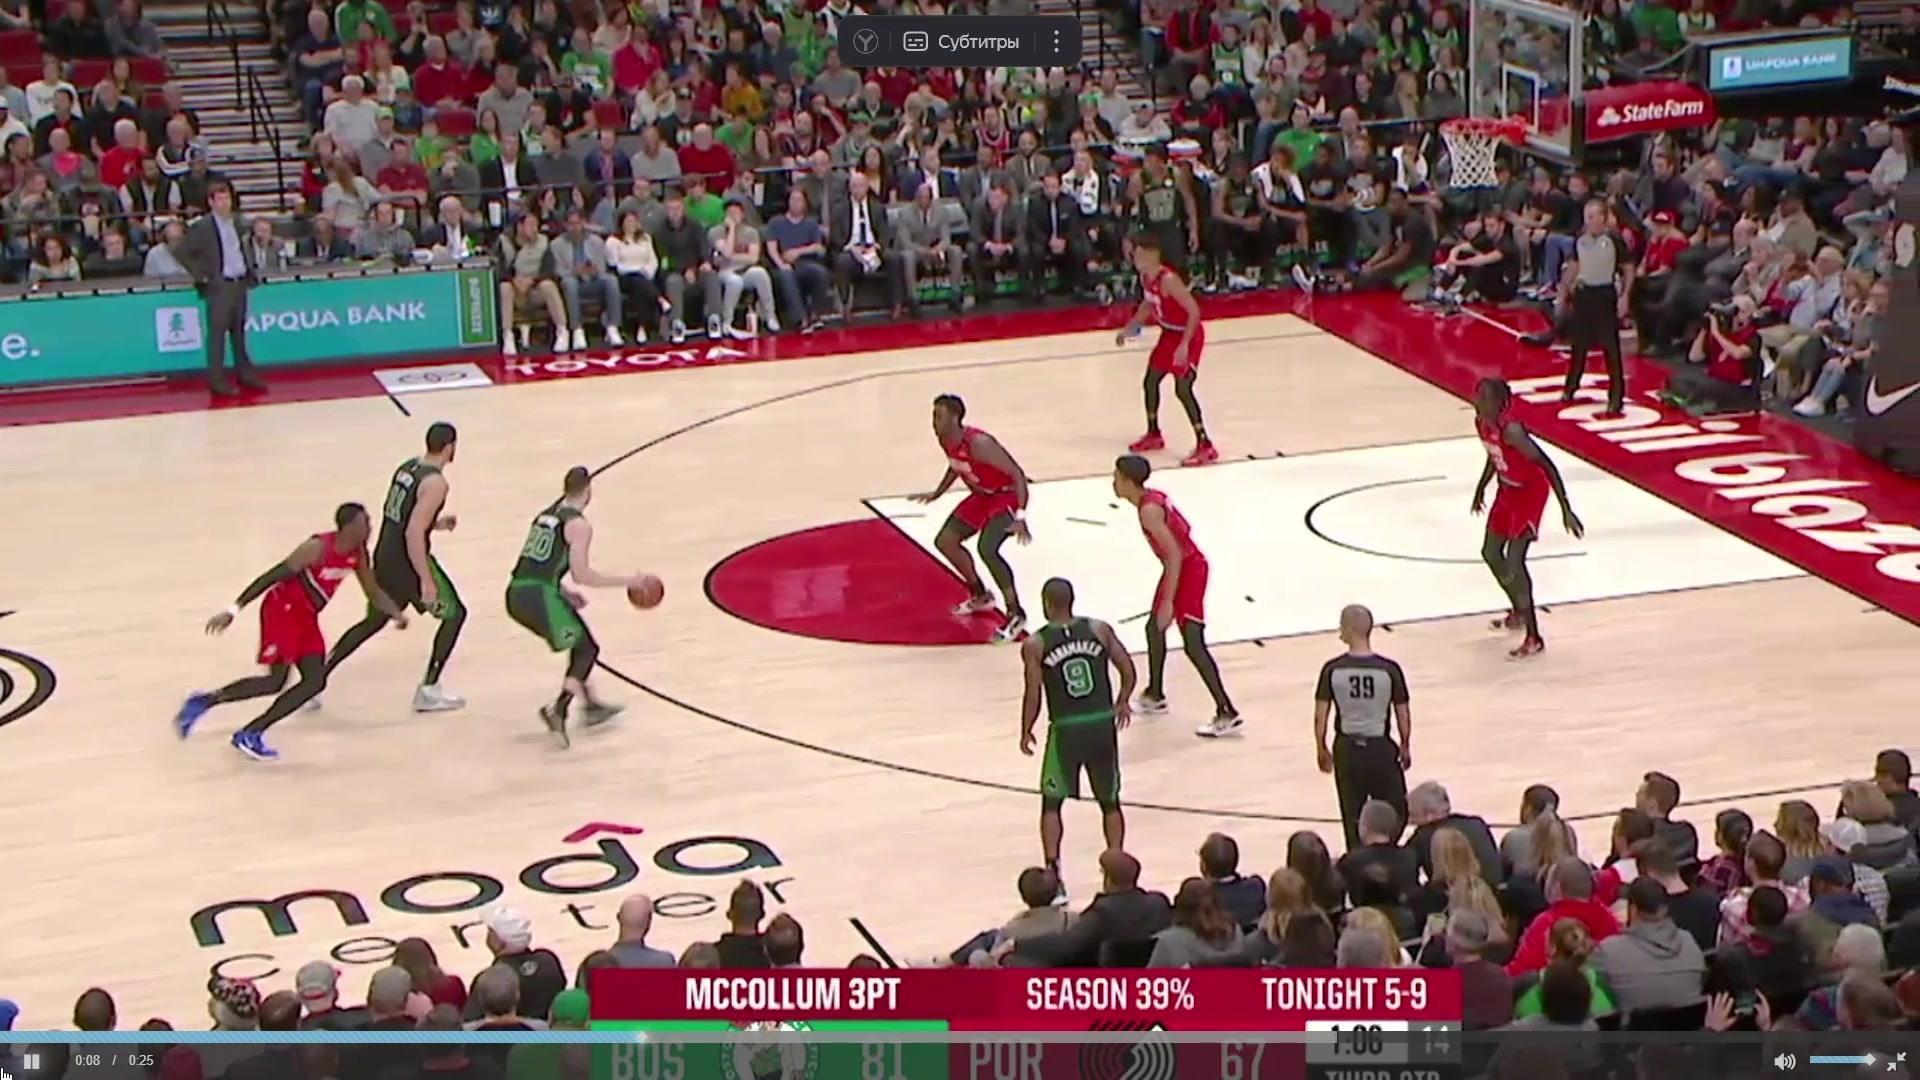no_foul: (206, 415, 513, 748)
